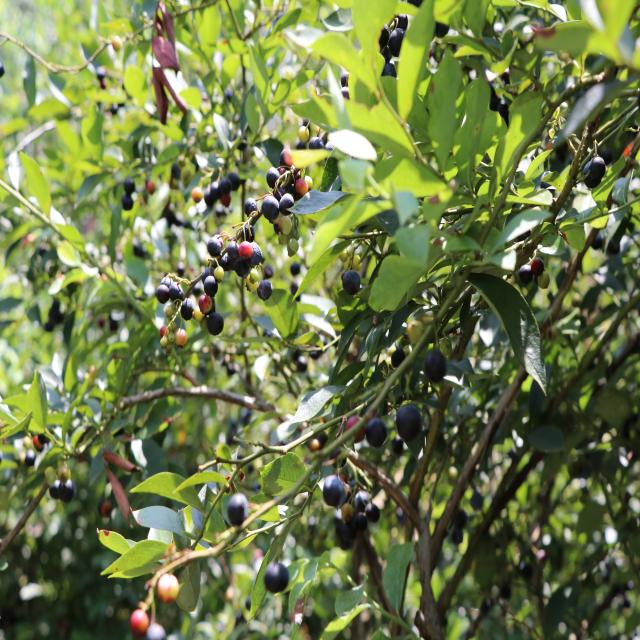blueberry: (395, 404, 423, 441), (322, 475, 346, 508), (265, 560, 289, 590), (227, 492, 249, 524), (426, 350, 448, 381), (366, 416, 387, 447), (341, 268, 362, 296), (261, 195, 279, 222), (246, 240, 264, 265), (206, 312, 224, 336), (257, 277, 272, 300), (278, 194, 293, 217), (266, 167, 281, 189), (204, 275, 218, 298), (308, 135, 323, 156), (180, 297, 193, 321), (236, 258, 251, 278), (169, 280, 182, 302), (156, 284, 170, 304), (244, 196, 258, 216), (207, 237, 221, 256), (242, 225, 256, 243), (227, 240, 239, 258), (324, 141, 334, 160), (160, 277, 172, 287)
blueberry-halfripe: (156, 572, 180, 604), (130, 607, 148, 635), (198, 293, 212, 313), (295, 176, 309, 196), (159, 324, 168, 336)
blueberry-unripe: (244, 274, 258, 294), (278, 216, 292, 235), (298, 124, 311, 144), (276, 230, 290, 247), (351, 254, 364, 272), (174, 328, 188, 344), (287, 237, 298, 254), (164, 305, 176, 320), (214, 263, 223, 280), (194, 306, 204, 321), (292, 225, 299, 239)
